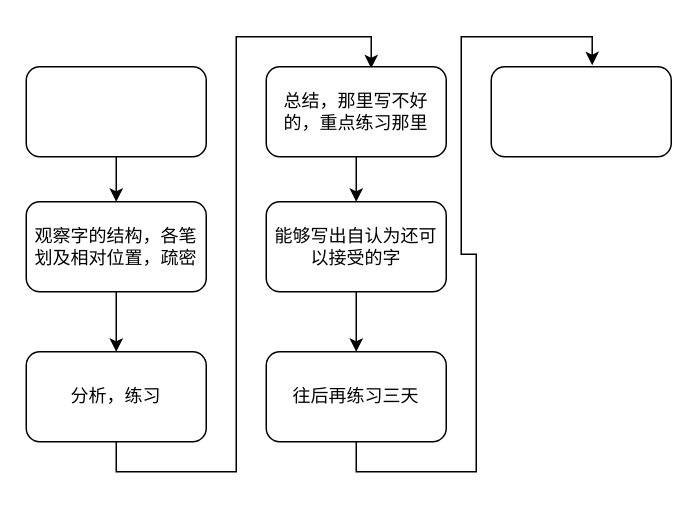
Image size: 698x510. Some labels were removed from this diagram. Each missing label, with the box of its shape:
准备练习的字: (25, 65, 206, 157)
字封存，以备以后复习: (490, 65, 671, 157)
